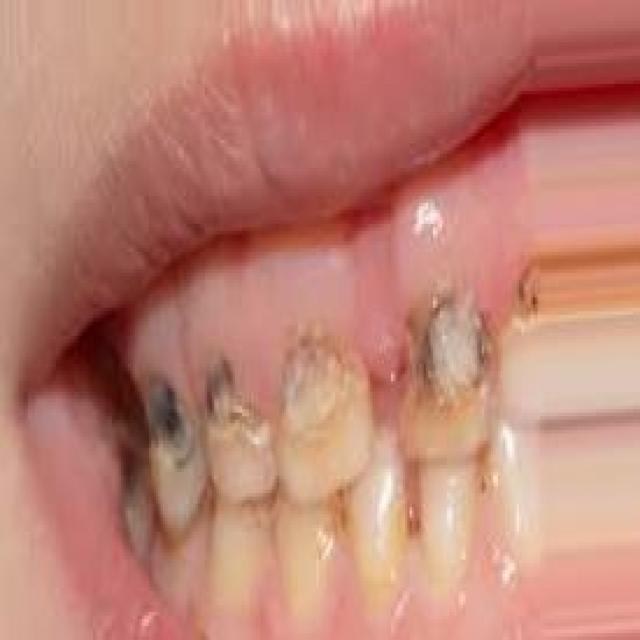caries: (392, 290, 501, 465), (276, 320, 372, 470), (198, 347, 278, 485), (133, 360, 198, 503)
